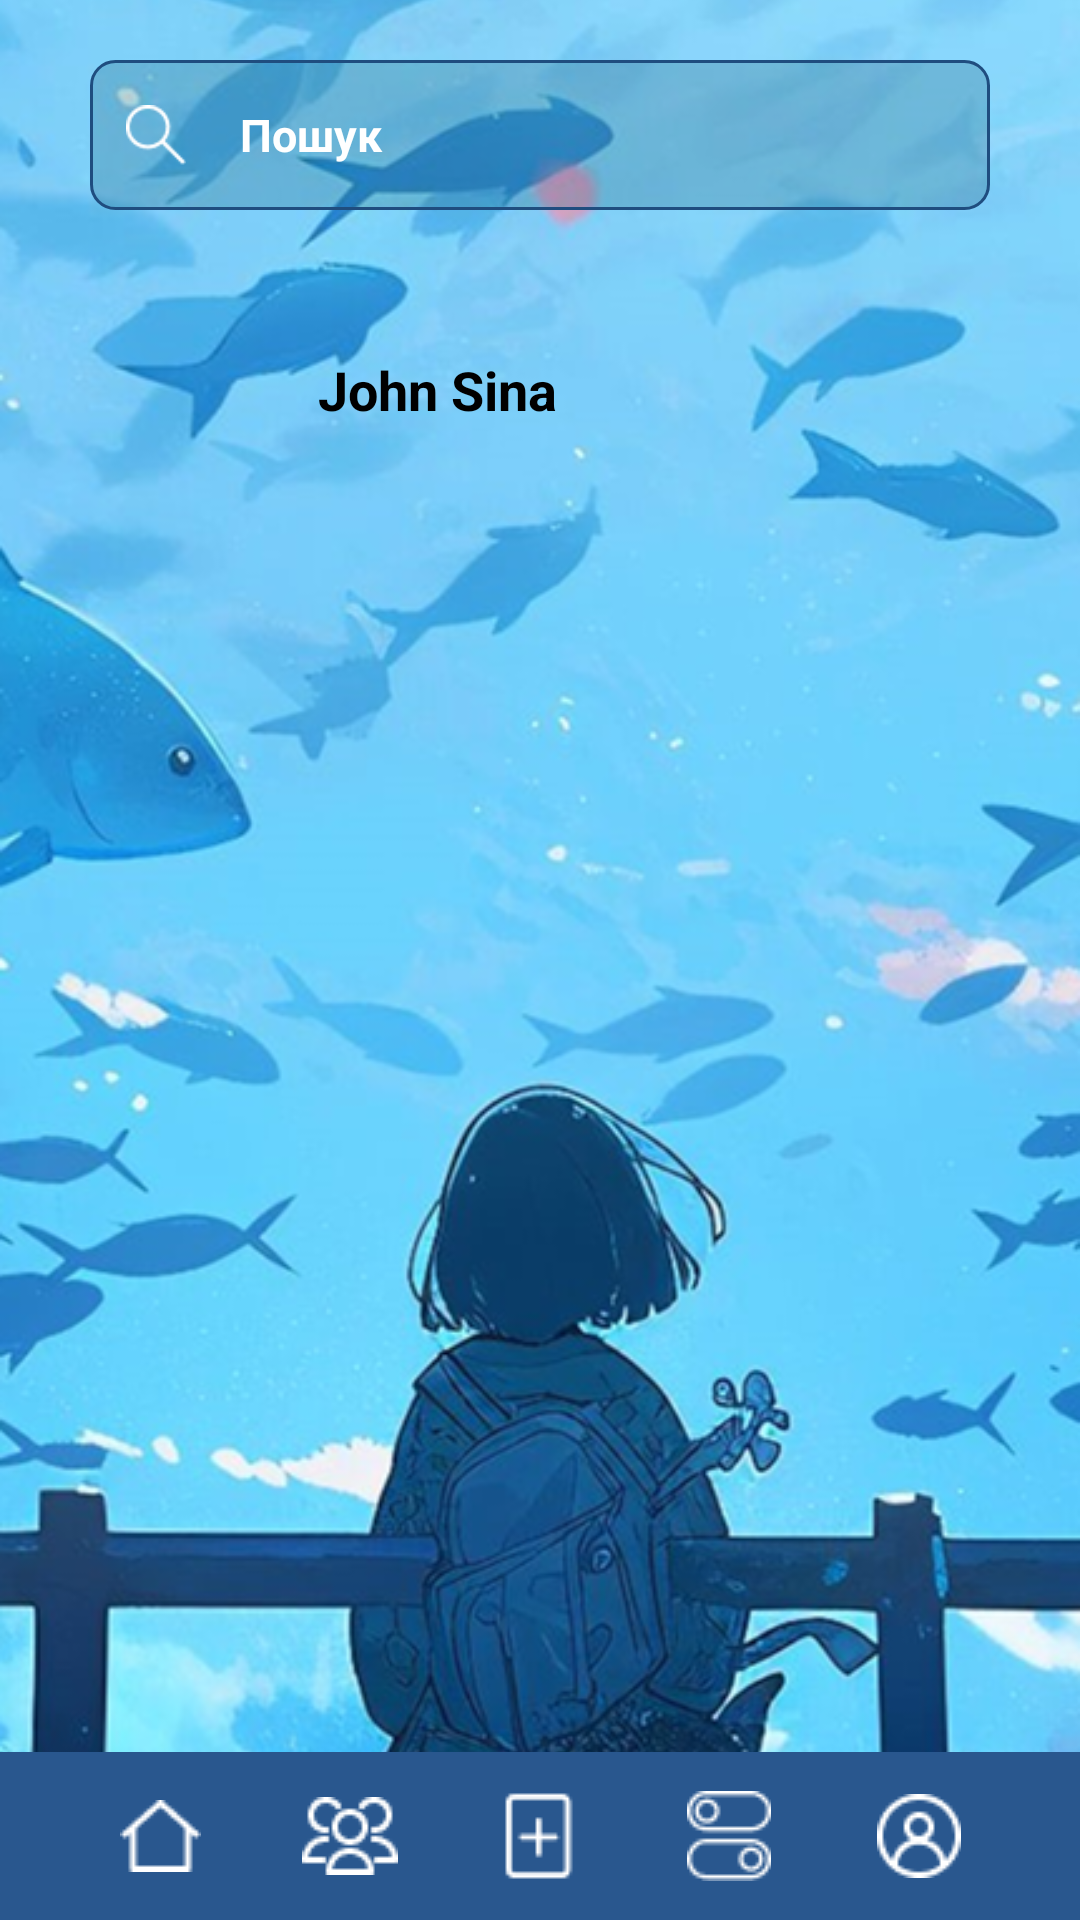

Named icons in this screenshot (1080px×1920px) and their centers, (x,y):
add: (539,1836)
home: (160,1836)
profile: (919,1836)
search: (156,135)
toggle: (729,1836)
users: (350,1836)
